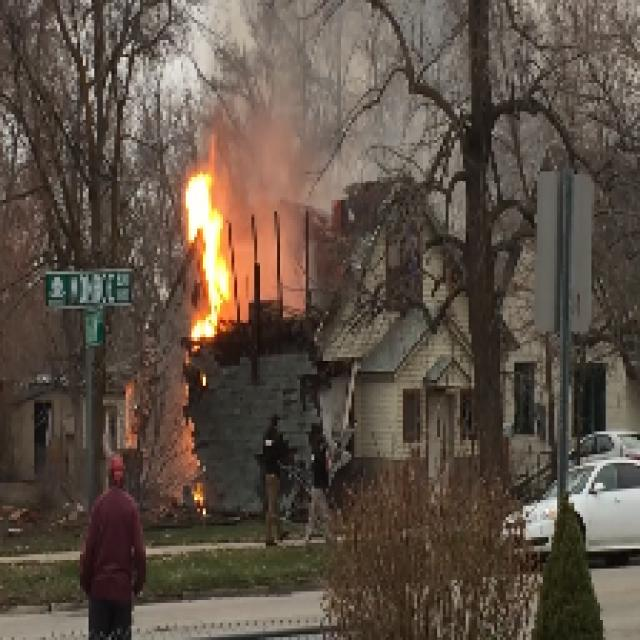fire: (180, 176, 224, 342)
smoke: (231, 114, 302, 296)
